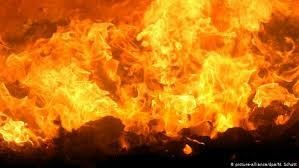fire: (0, 2, 294, 150)
